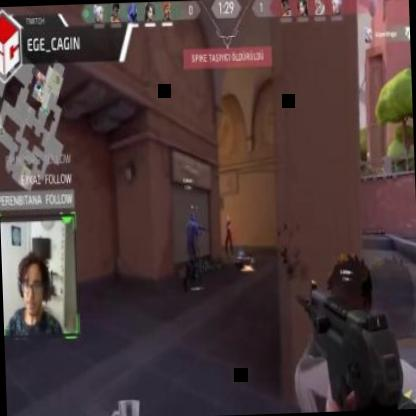enemy: (222, 214, 234, 260)
enemy_head: (226, 216, 230, 224)
